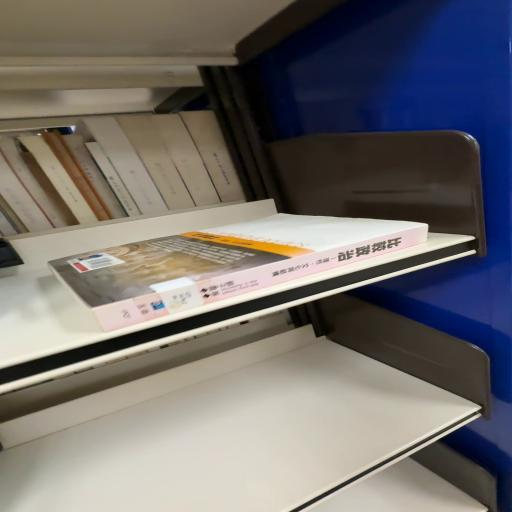flat: (49, 214, 429, 332)
